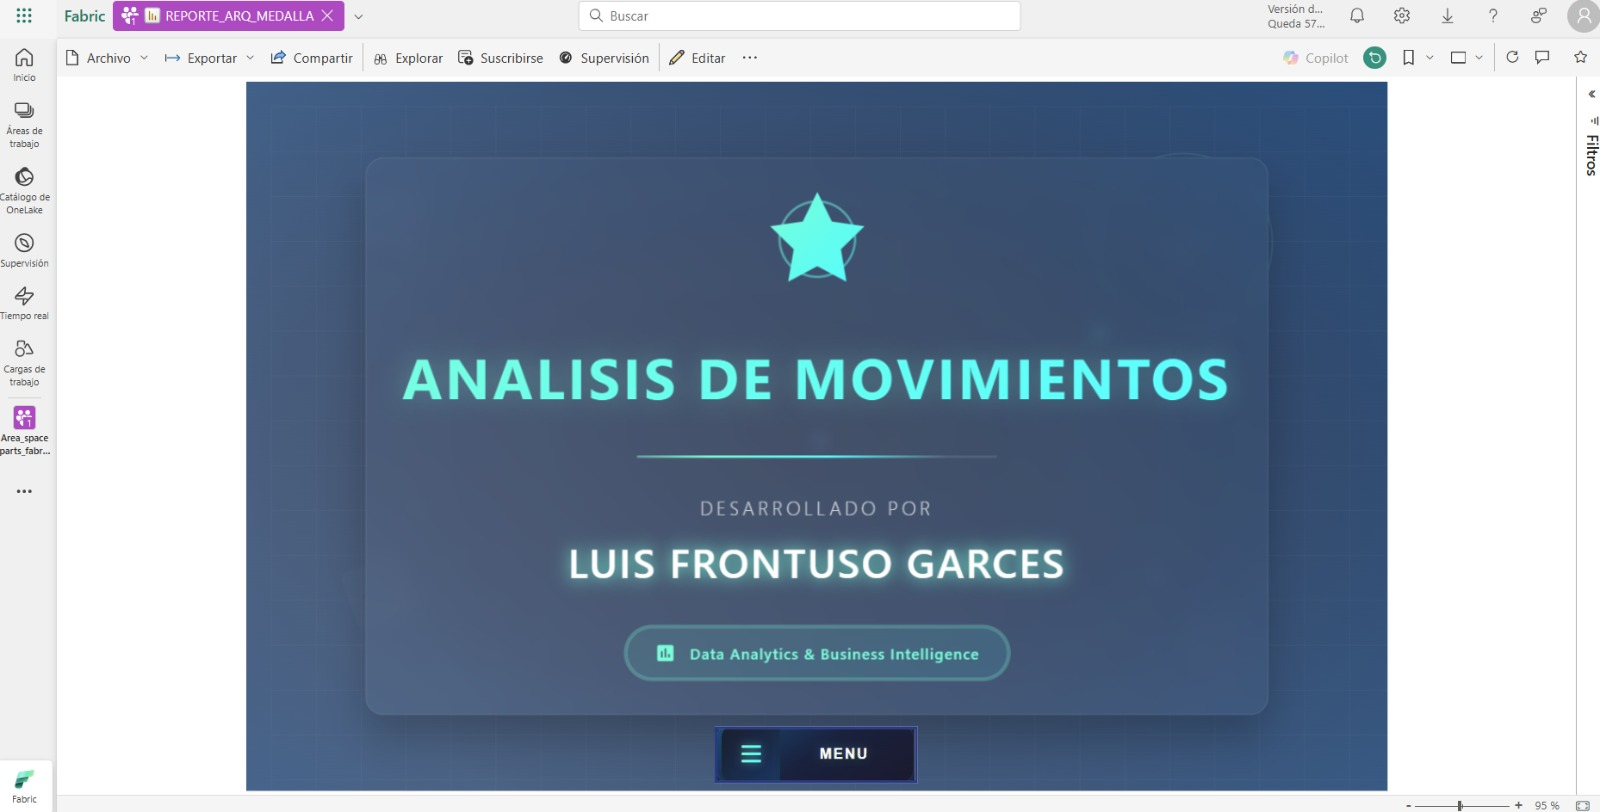

The dashboard page shown, as its layout file describes it:
{"tool":"powerbi","page":{"name":"INICIO","canvas":[1280,800],"ordinal":0},"visuals":[{"type":"htmlContent443BE3AD55E043BF878BED274D3A6855","fields":{"content":["Calendar.HTML Fondo Presentacion"]},"box":[0,0,1279.6,800],"z":0,"group":"g1"},{"type":"group","id":"g1","title":"Grupo 1","box":[0,0,1279.6,800],"z":1000},{"type":"actionButton","box":[527.1,724.4,225.9,62.7],"z":1000,"group":"g1"}]}

Visuals, with their boxes on the page's 1280x800 design canvas (x1, y1, x2, y2). These are canvas units, not pixel positions in the 1600x812 screenshot, which may show the page scaled, cropped or inside an application window:
htmlContent443BE3AD55E043BF878BED274D3A6855 - Calendar.HTML Fondo Presentacion: (0, 0, 1280, 800)
"Grupo 1" group: (0, 0, 1280, 800)
actionButton: (527, 724, 753, 787)
